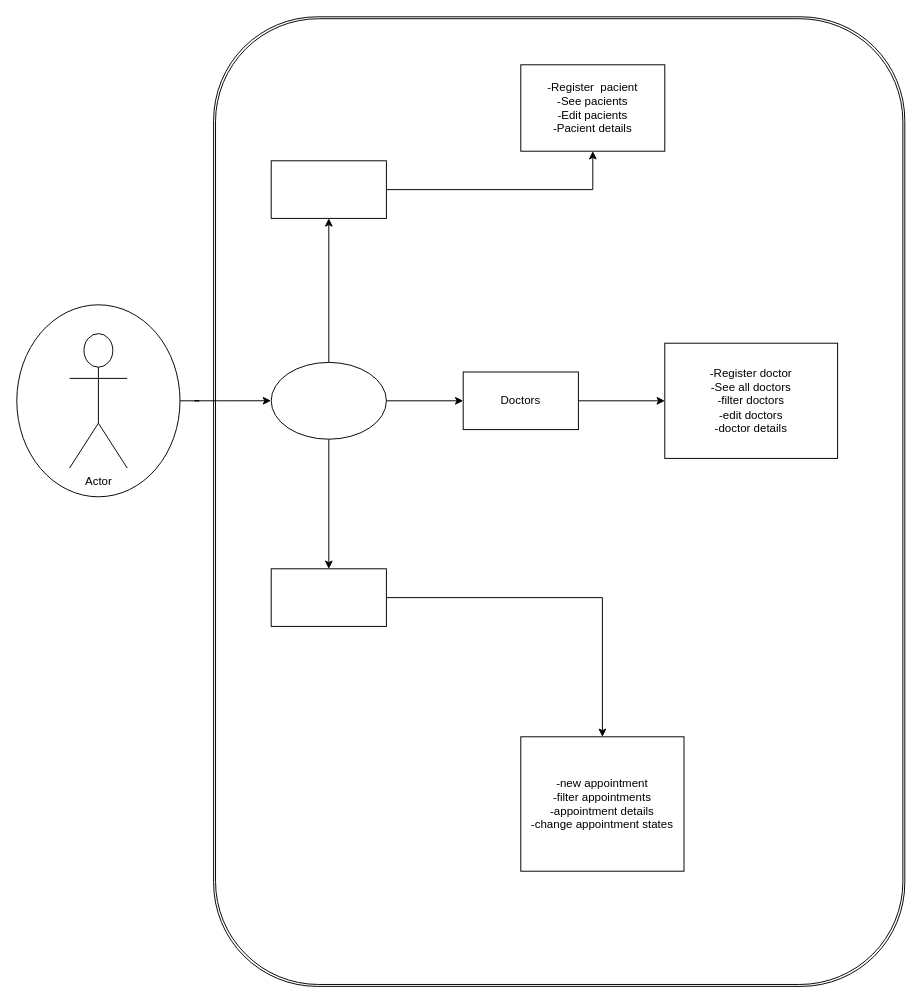
This 922x1003 diagram has some shape labels left out. The box of each missing label's shape, as (x1, y1, x2, y2) in pixels:
Appointments: (270, 568, 386, 626)
Home page: (270, 361, 386, 439)
Pacients: (270, 160, 386, 218)
